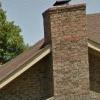Chimney: (39, 1, 92, 98)
